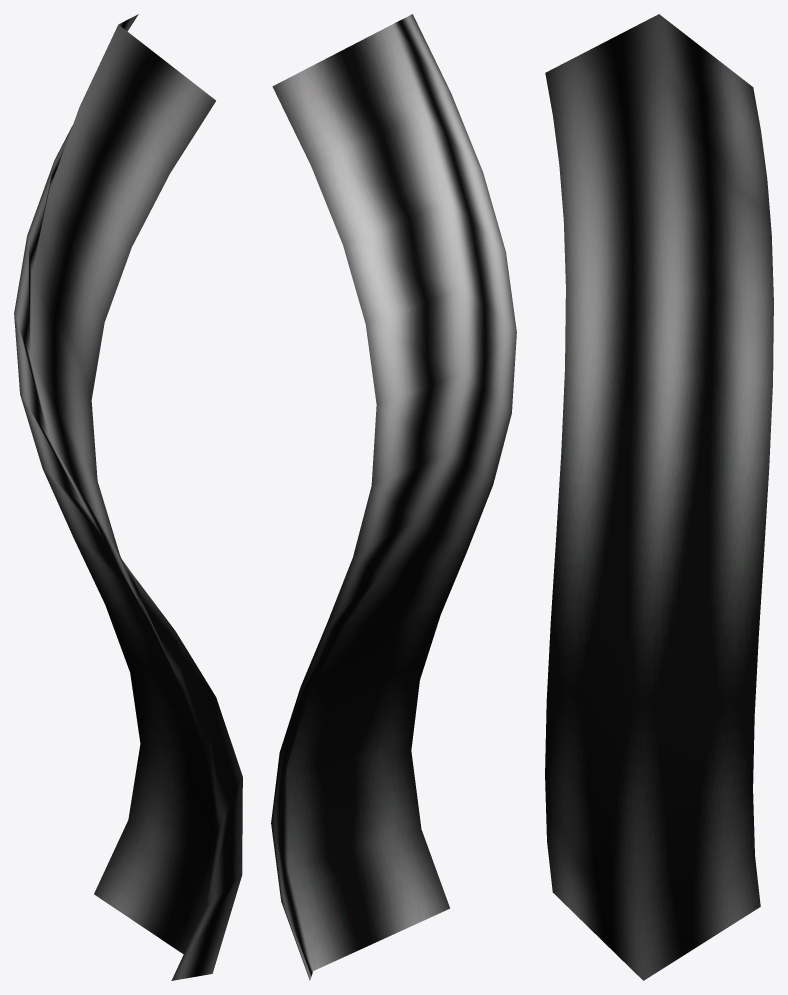
Rendered from vfx_kurp_0832.dae.
3 renders of one model, left to right at view 1: azimuth 30°, elevation 25°; view 2: azimuth 150°, elevation 25°; view 3: azimuth 270°, elevation 25°, orthographic. The views are drawn at different scales.
Visible parts, largest first — view 1: vfx_kurp_0832; view 2: vfx_kurp_0832; view 3: vfx_kurp_0832.
Boxes of the visible parts, x1,y1,x2,y2 form: vfx_kurp_0832: (14,14,242,980); vfx_kurp_0832: (271,14,516,980); vfx_kurp_0832: (545,14,773,980).
Bounding box in the file's own units: 1.02 × 1.09 × 4.85.
Materials: 1 (1 with a texture image).
